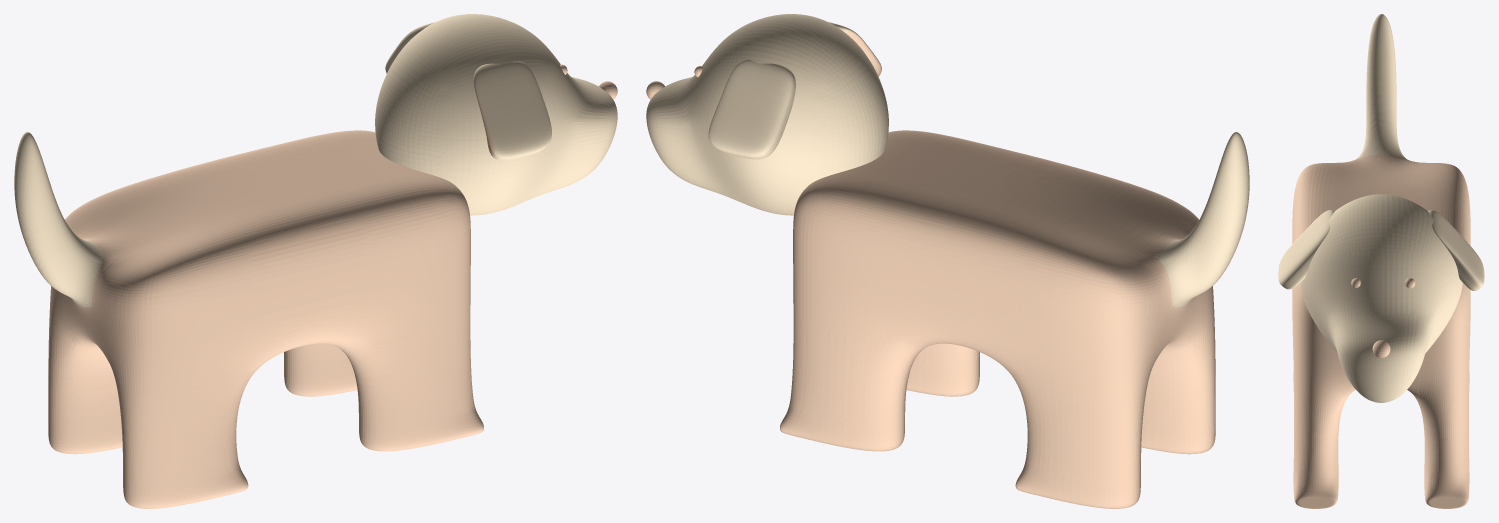
Rendered from donut.glb.
The picture shows the model from 3 angles, left to right: view 1: azimuth 30°, elevation 25°; view 2: azimuth 150°, elevation 25°; view 3: azimuth 270°, elevation 25°; orthographic projection. The views are drawn at different scales.
Visible parts, largest first — view 1: Mesh0, Mesh0_1; view 2: Mesh0, Mesh0_1; view 3: Mesh0_1, Mesh0.
Boxes of the visible parts, x1,y1,x2,y2 form: Mesh0: (48,64,617,508); Mesh0_1: (14,14,617,306); Mesh0: (646,30,1215,508); Mesh0_1: (646,14,1249,306); Mesh0_1: (1278,14,1484,402); Mesh0: (1292,154,1470,508).
Bounding box in the file's own units: 170 × 99.79 × 57.75.
